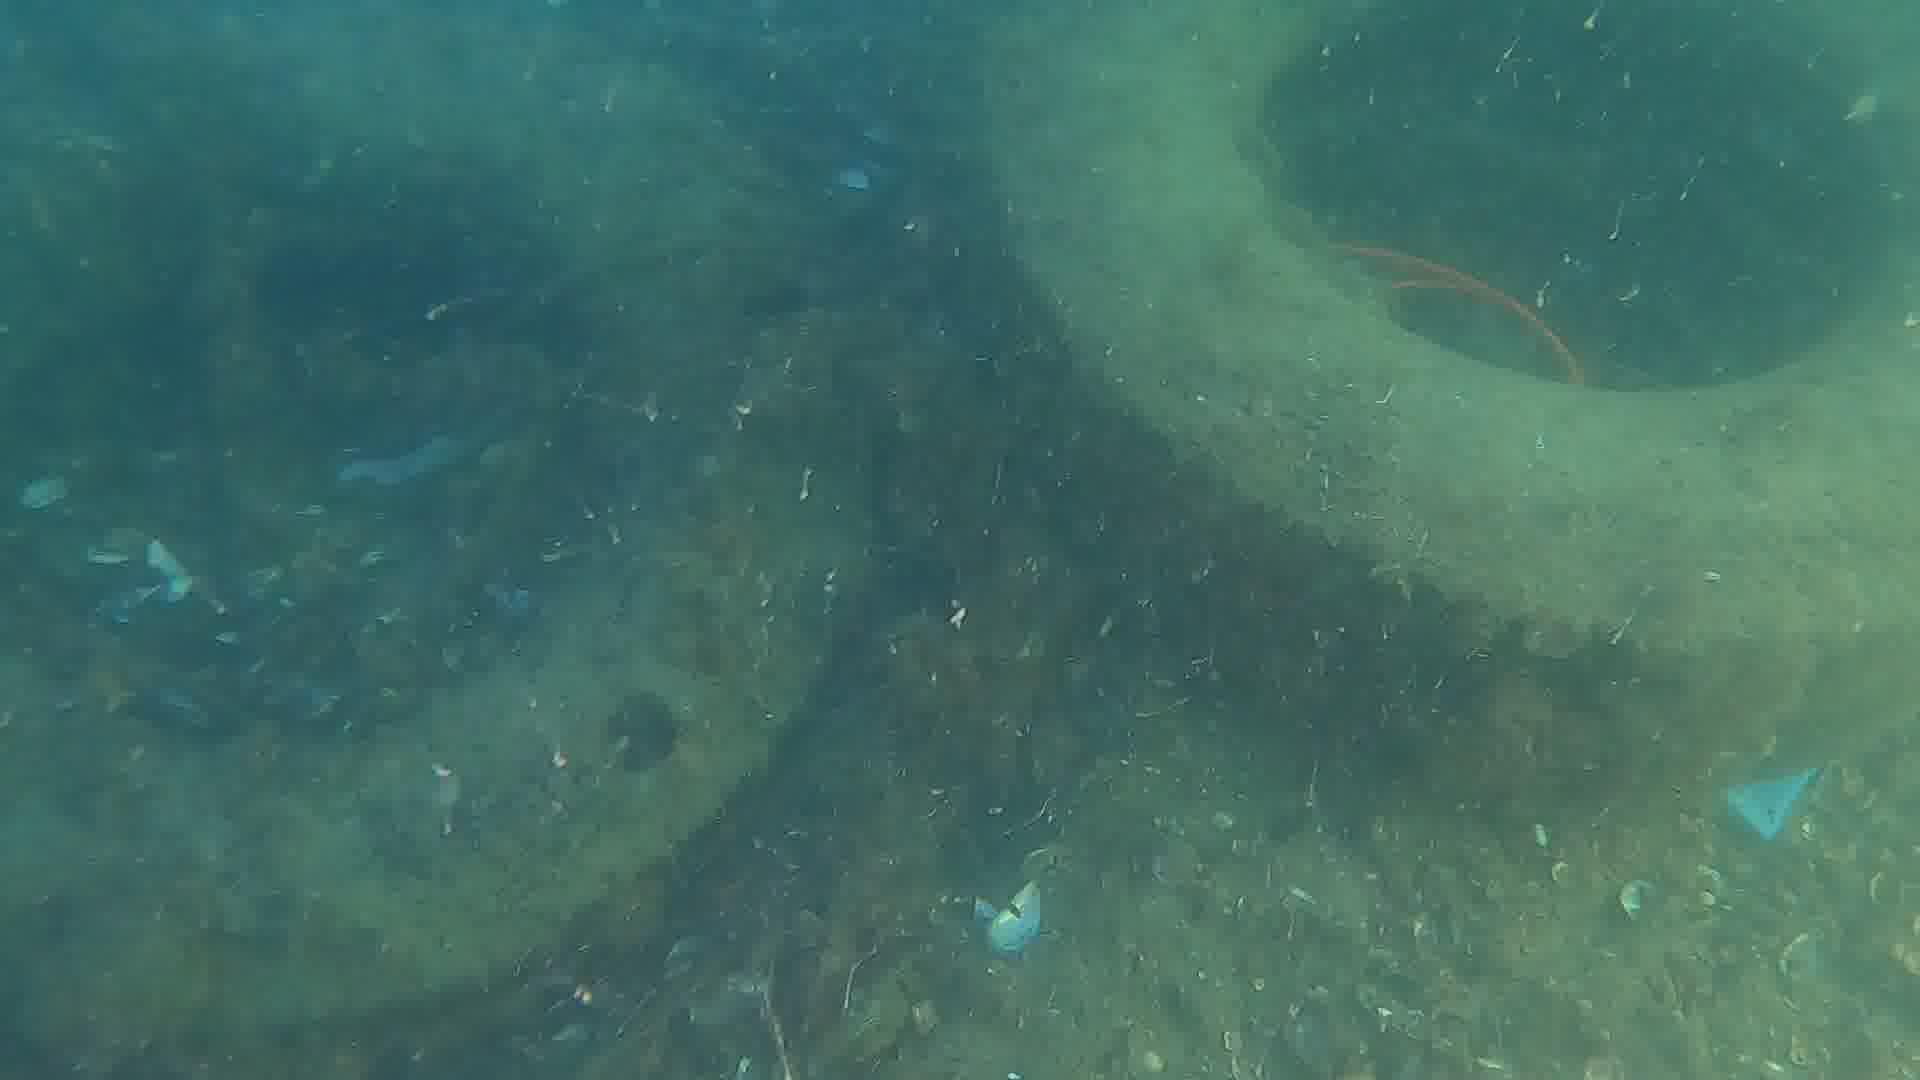tire: (0, 5, 869, 1080), (957, 0, 1920, 781)
